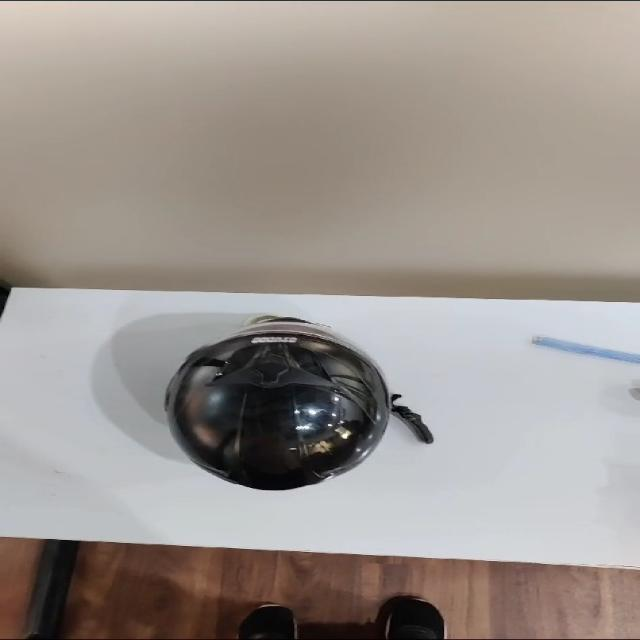helmet: (160, 315, 396, 500)
